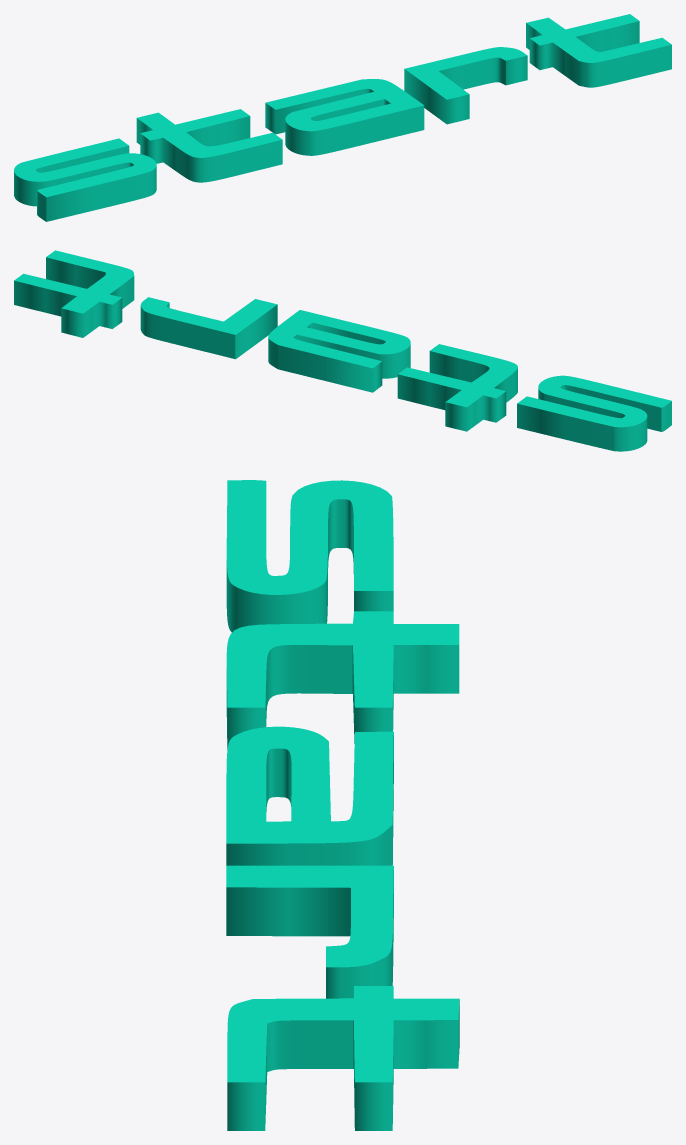
The model's file is start.fbx.
3 views of the same model, one above another, from view 1: azimuth 30°, elevation 25°; view 2: azimuth 150°, elevation 25°; view 3: azimuth 270°, elevation 25° (orthographic). The views are drawn at different scales.
Visible parts, largest first — view 1: path0; view 2: path0; view 3: path0.
Part boxes in pixels (<box>): path0: <box>14,14,671,221</box>; path0: <box>14,250,671,451</box>; path0: <box>226,480,459,1130</box>.
Size of the model in its own units: 10.63 by 0.4 by 1.74.
